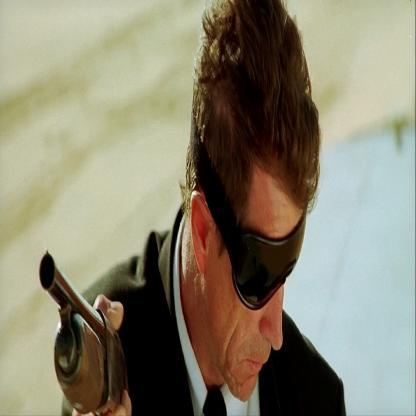gun: (39, 238, 126, 416)
